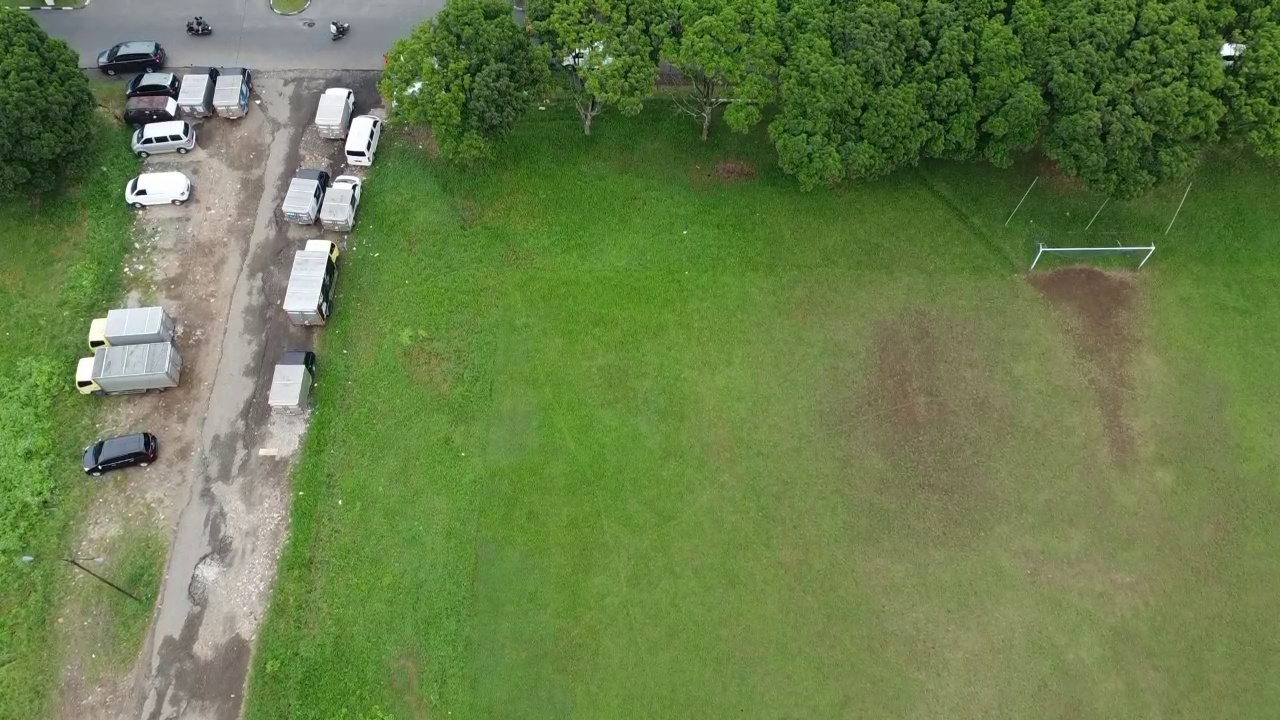mobil: (77, 434, 163, 473), (96, 35, 169, 78), (123, 167, 196, 210), (130, 120, 198, 157), (344, 111, 382, 172), (116, 96, 184, 123), (129, 68, 182, 97)
